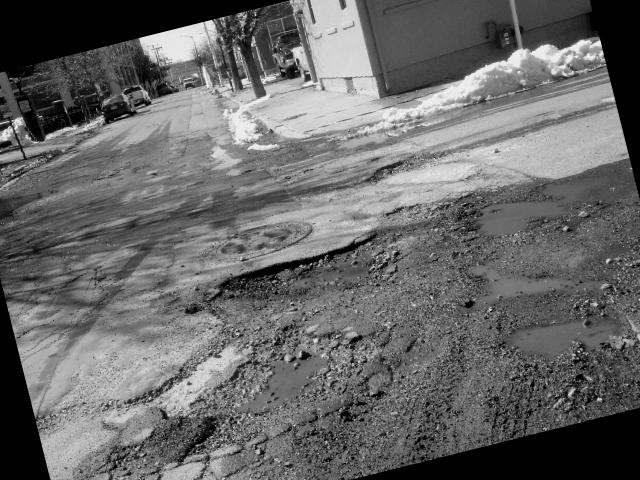Pothole: (65, 139, 640, 480), (304, 112, 428, 208)
